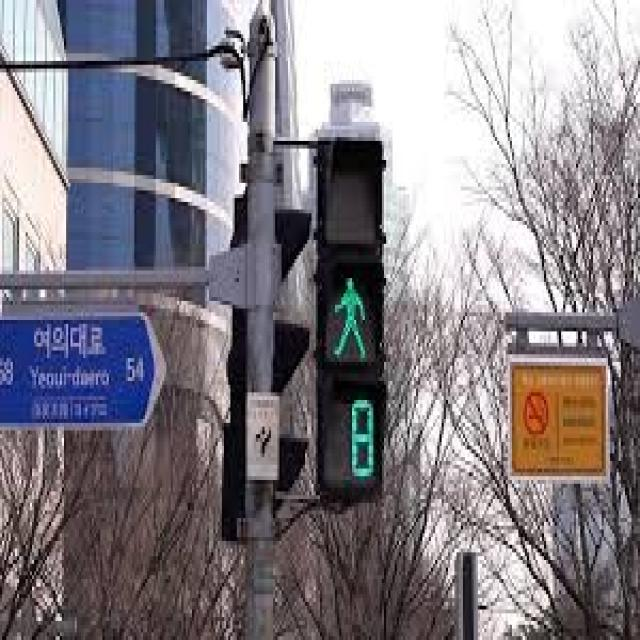Go: (313, 132, 405, 509), (314, 243, 399, 380)
